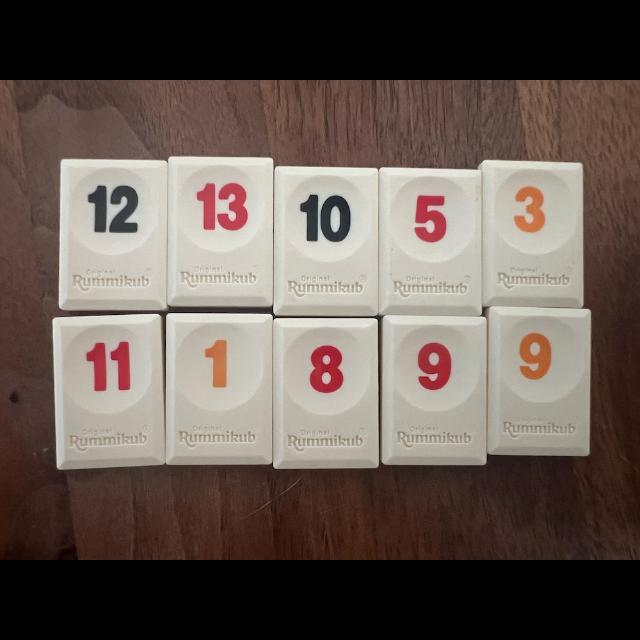black_10: (274, 166, 378, 316)
black_12: (60, 159, 168, 311)
orange_1: (166, 314, 271, 464)
orange_3: (479, 160, 582, 308)
orange_9: (486, 308, 590, 455)
red_11: (52, 315, 165, 470)
red_13: (169, 156, 272, 308)
red_5: (379, 168, 481, 315)
red_8: (274, 321, 378, 468)
red_9: (382, 316, 486, 465)
